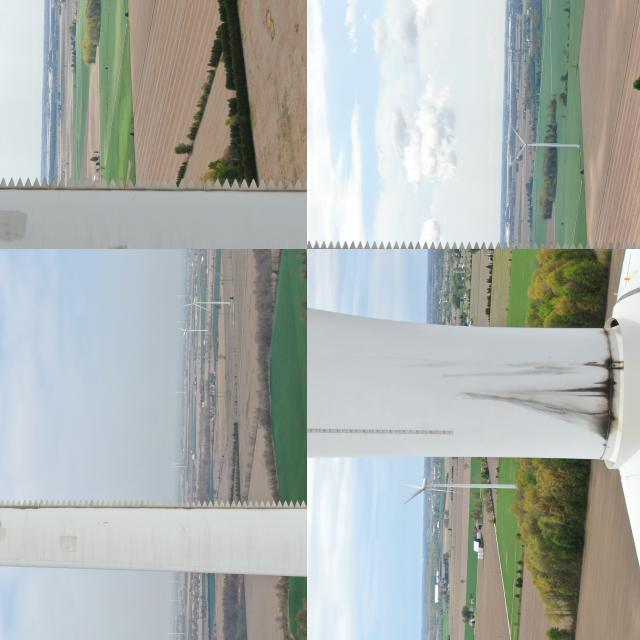damage: (548, 354, 616, 442)
